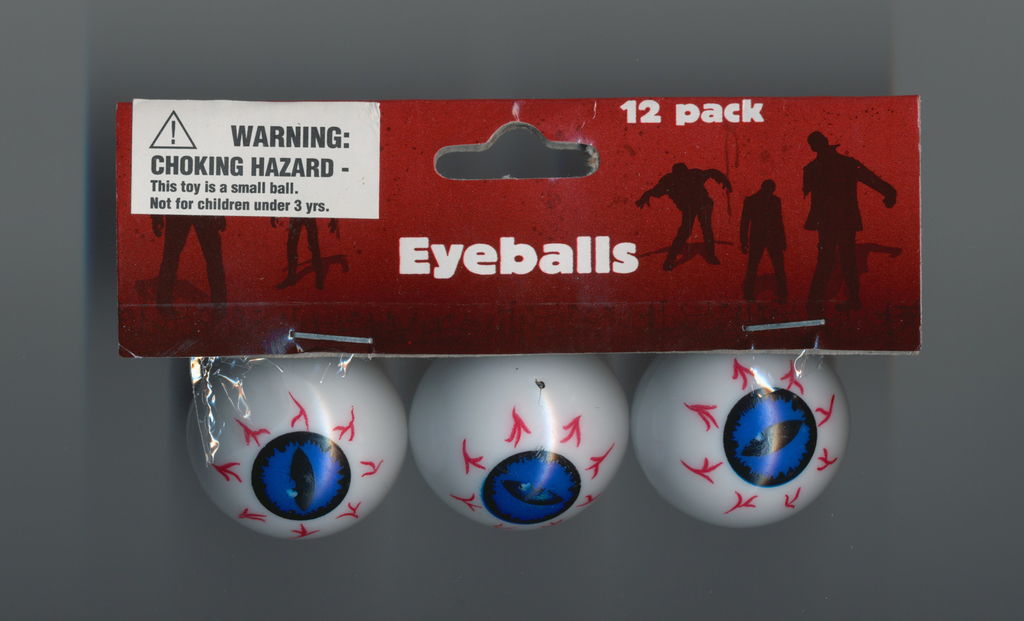Ball: (189, 341, 419, 546), (626, 347, 857, 535), (410, 353, 634, 533)
